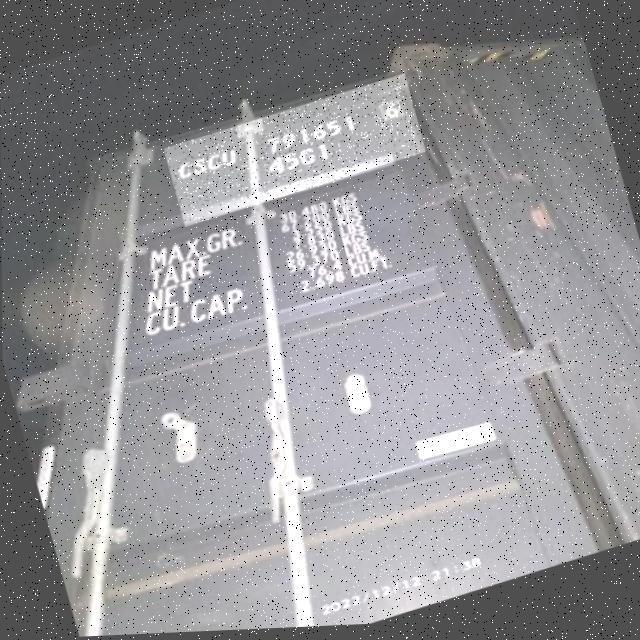container_number_h: (163, 76, 426, 229)
